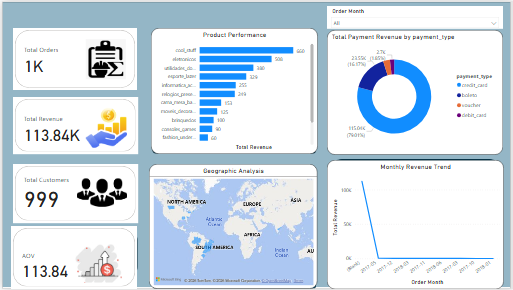

What the dashboard file says about the page in this screenshot:
{"tool":"powerbi","page":{"name":"Page 1","canvas":[1280,720],"ordinal":0},"visuals":[{"type":"cardVisual","fields":{"Data":["order_items_clean.Total Revenue"]},"box":[21.8,189.8,316.4,170.2],"z":0},{"type":"cardVisual","fields":{"Data":["orders_clean.Total Orders"]},"box":[21.8,15.3,316.4,170.2],"z":1000},{"type":"cardVisual","fields":{"Data":["customers_clean.Total Customers"]},"box":[21.8,384,325.1,170.2],"z":2000},{"type":"cardVisual","fields":{"Data":["order_items_clean.AOV"]},"box":[21.8,560.7,316.4,159.3],"z":3000},{"type":"lineChart","title":"Monthly Revenue Trend","fields":{"Category":["orders_clean.Order Month"],"Y":["order_items_clean.Total Revenue"]},"box":[829.1,408,425.5,312],"z":4000},{"type":"clusteredBarChart","title":"Product Performance","fields":{"Category":["products_clean.product_category_name"],"Y":["order_items_clean.Total Revenue"]},"box":[370.9,15.3,416.7,368.7],"z":5000},{"type":"map","title":"Geographic Analysis","fields":{"Category":["customers_clean.customer_state"],"Size":["order_items_clean.Total Revenue"]},"box":[366.5,408,421.1,312],"z":6000},{"type":"slicer","fields":{"Values":["orders_clean.Order Month"]},"box":[829.1,0,425.5,67.6],"z":7001},{"type":"donutChart","fields":{"Category":["Payment_clean.payment_type"],"Y":["Payment_clean.Total Payment Revenue"]},"box":[829.1,67.6,425.5,312],"z":7002}]}

Visuals, with their boxes in screenshot pixels (x1, y1, x2, y2), scaled from the page's 1280x720 canvas onto the 513x290 screenshot:
cardVisual - order_items_clean.Total Revenue: BBox(9, 76, 136, 145)
cardVisual - orders_clean.Total Orders: BBox(9, 6, 136, 75)
cardVisual - customers_clean.Total Customers: BBox(9, 155, 139, 223)
cardVisual - order_items_clean.AOV: BBox(9, 226, 136, 289)
"Monthly Revenue Trend" lineChart: BBox(332, 164, 503, 289)
"Product Performance" clusteredBarChart: BBox(149, 6, 316, 155)
"Geographic Analysis" map: BBox(147, 164, 316, 289)
slicer - orders_clean.Order Month: BBox(332, 0, 503, 27)
donutChart - Payment_clean.payment_type x Payment_clean.Total Payment Revenue: BBox(332, 27, 503, 153)
